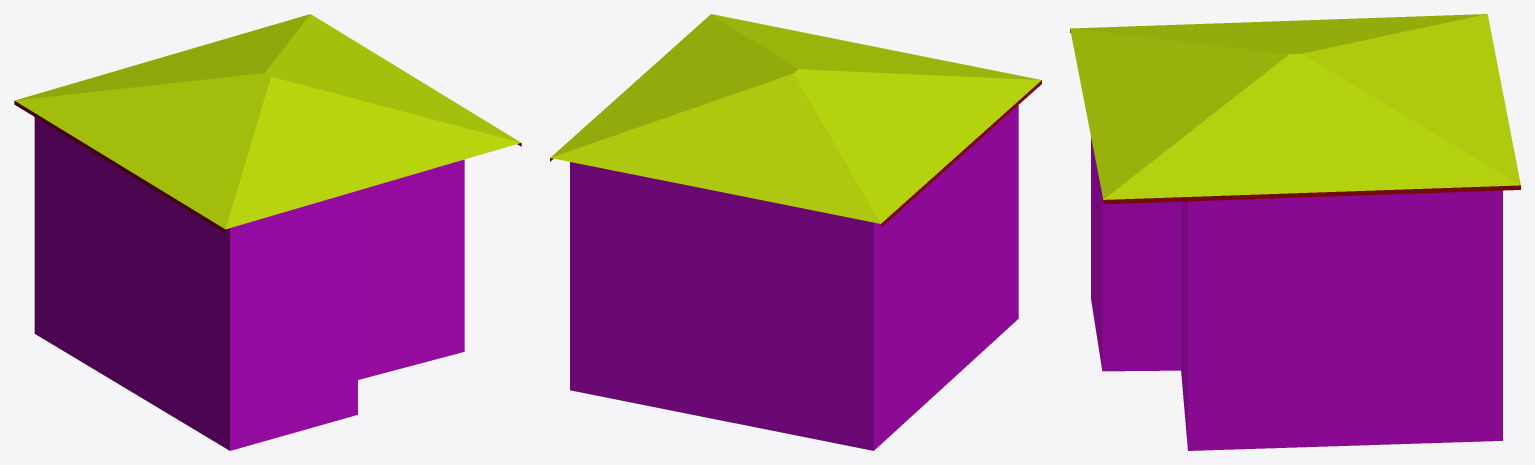
File: bgj_265.glb
3 views of the same model, side by side, from view 1: azimuth 30°, elevation 25°; view 2: azimuth 150°, elevation 25°; view 3: azimuth 270°, elevation 25° (orthographic). The views are drawn at different scales.
Parts seen in each view (by area): view 1: bgj_265; view 2: bgj_265; view 3: bgj_265.
Part boxes in pixels (x1,y1,x2,y2): bgj_265: [14, 14, 521, 450]; bgj_265: [550, 14, 1041, 450]; bgj_265: [1070, 14, 1520, 450].
Size of the model in its own units: 10.64 by 8.4 by 10.91.
